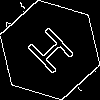H: (25, 25, 83, 83)
